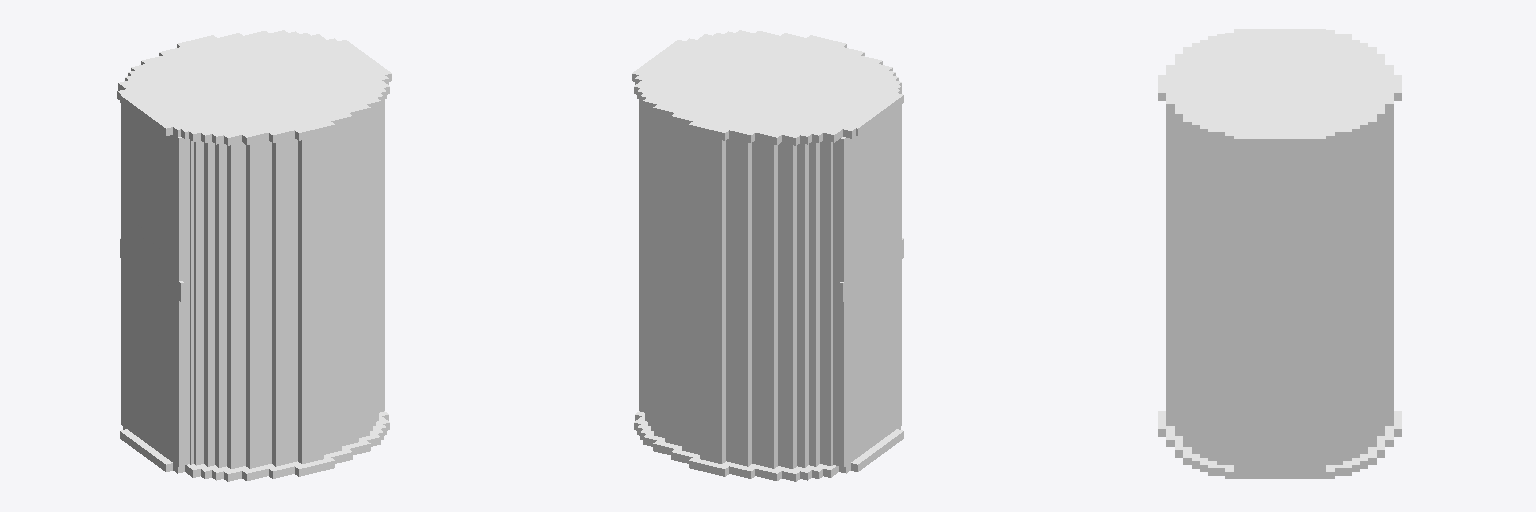
Rendered from ddBarrilRadioactivo.obj.
3 views of the same model, side by side, from view 1: azimuth 30°, elevation 25°; view 2: azimuth 150°, elevation 25°; view 3: azimuth 270°, elevation 25° (orthographic).
Parts seen in each view (by area): view 1: object 1; view 2: object 1; view 3: object 1.
Boxes of the visible parts, <box> form: object 1: <box>117,30,391,481</box>; object 1: <box>632,30,903,481</box>; object 1: <box>1158,29,1401,478</box>.
Bounding box in the file's own units: 12.4 × 18 × 11.6.